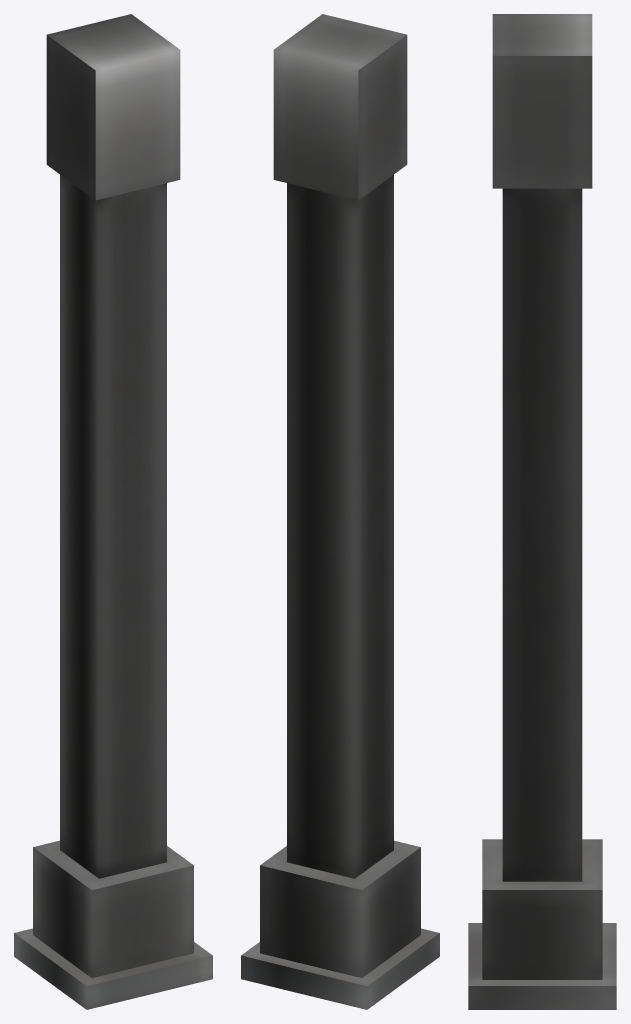
File: Grid_Pole.FBX
3 views of the same model, side by side, from view 1: azimuth 30°, elevation 25°; view 2: azimuth 150°, elevation 25°; view 3: azimuth 270°, elevation 25° (orthographic).
Visible parts, largest first — view 1: Grid_Pole; view 2: Grid_Pole; view 3: Grid_Pole.
Boxes of the visible parts, <box> form: Grid_Pole: <box>14,14,212,1009</box>; Grid_Pole: <box>241,14,439,1009</box>; Grid_Pole: <box>468,14,616,1009</box>.
Bounding box in the file's own units: 70.88 × 497 × 70.88.
